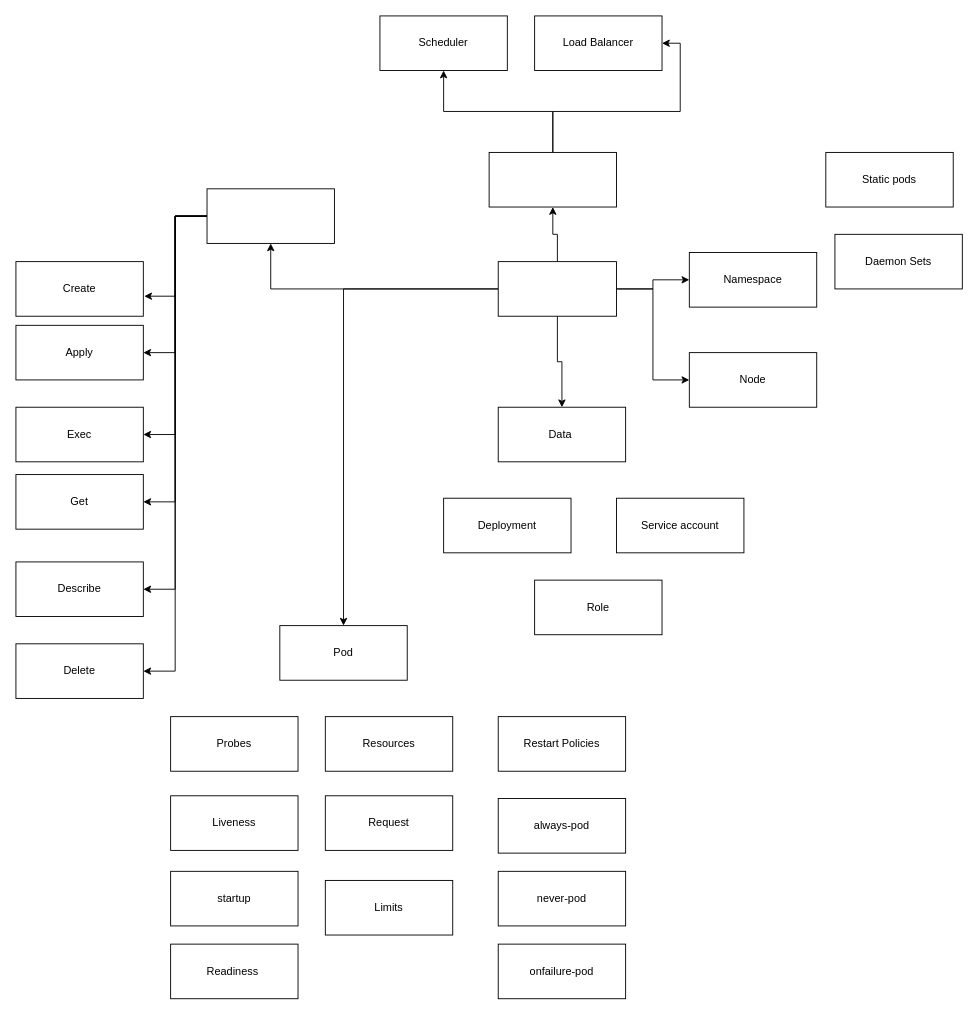
This 978x1015 diagram has some shape labels left out. Each missing label, with the box of its shape:
API: (206, 188, 334, 243)
Cluster: (488, 152, 617, 207)
Kubernetes: (497, 261, 617, 316)
